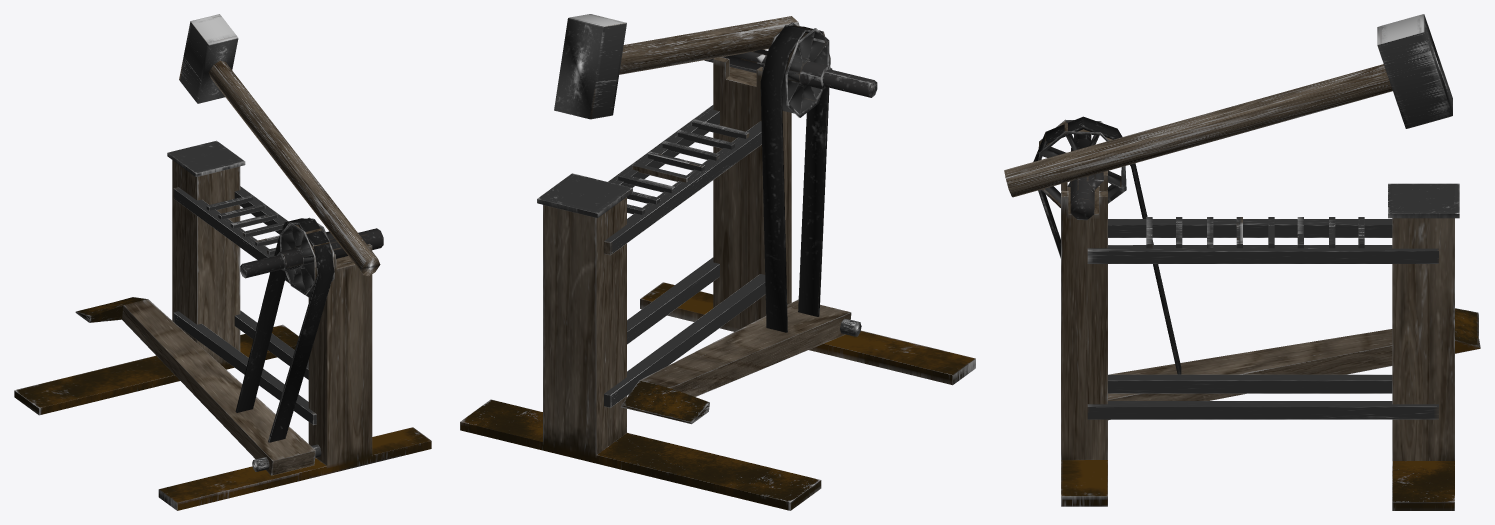
Rendered from Martilloanimacion.fbx.
3 views of the same model, side by side, from view 1: azimuth 30°, elevation 25°; view 2: azimuth 150°, elevation 25°; view 3: azimuth 270°, elevation 25° (orthographic). The views are drawn at different scales.
Visible parts, largest first — view 1: Base2, base de rueda, Pedal, martillo, cuerda, sostenibleArriba, Rueda, Base abajo; view 2: Base2, base de rueda, cuerda, martillo, Pedal, sostenibleArriba, Base abajo, Rueda; view 3: Base2, martillo, base de rueda, sostenibleArriba, Base abajo, Pedal, Rueda, cuerda.
Part boxes in pixels (left/top/right/bottom): Base2: left=14, top=140, right=298, bottom=415; base de rueda: left=158, top=244, right=431, bottom=510; Pedal: left=75, top=297, right=315, bottom=475; martillo: left=179, top=14, right=380, bottom=276; cuerda: left=235, top=218, right=334, bottom=442; sostenibleArriba: left=173, top=186, right=311, bottom=298; Rueda: left=240, top=217, right=383, bottom=295; Base abajo: left=173, top=310, right=316, bottom=425; Base2: left=460, top=173, right=821, bottom=510; base de rueda: left=640, top=57, right=975, bottom=385; cuerda: left=760, top=25, right=830, bottom=332; martillo: left=554, top=14, right=799, bottom=119; Pedal: left=621, top=299, right=851, bottom=424; sostenibleArriba: left=604, top=105, right=761, bottom=255; Base abajo: left=604, top=257, right=765, bottom=407; Rueda: left=704, top=22, right=877, bottom=117; Base2: left=1388, top=183, right=1459, bottom=510; martillo: left=1004, top=14, right=1452, bottom=197; base de rueda: left=1061, top=171, right=1107, bottom=506; sostenibleArriba: left=1087, top=217, right=1438, bottom=263; Base abajo: left=1087, top=374, right=1438, bottom=419; Pedal: left=1108, top=308, right=1480, bottom=420; Rueda: left=1038, top=119, right=1126, bottom=220; cuerda: left=1033, top=116, right=1181, bottom=374.
Size of the model in its own units: 1245 by 1528 by 1523.
Materials: 1 (1 with a texture image).
